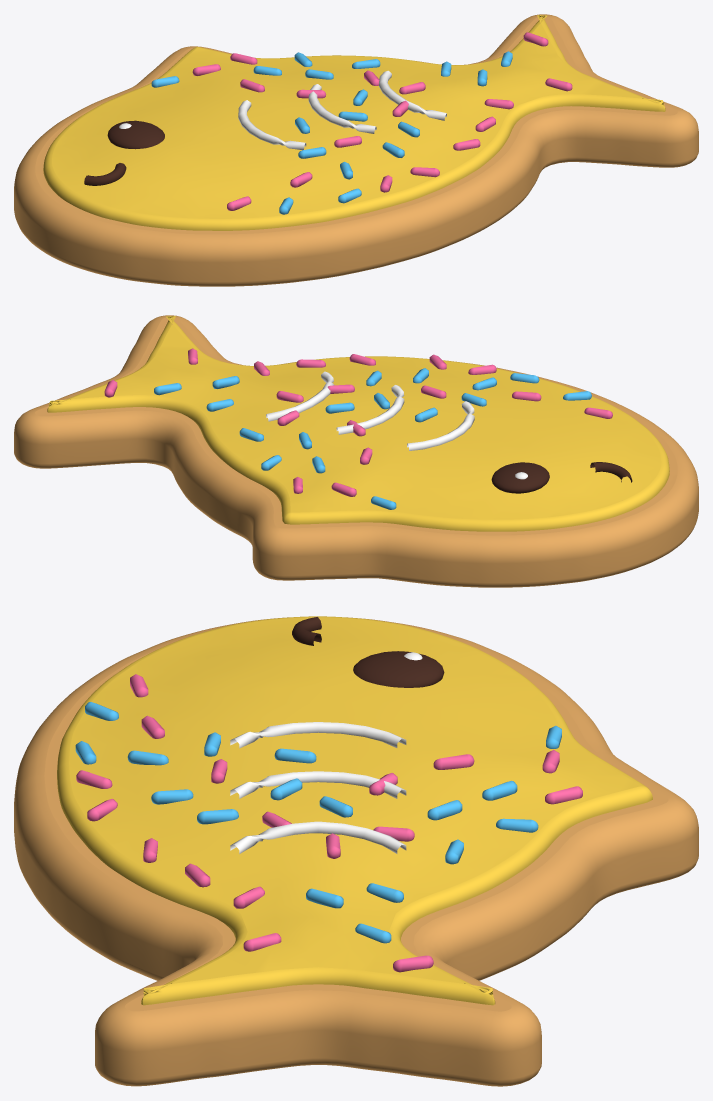
The model's file is FishCookie.obj.
3 renders of one model, top to bottom at view 1: azimuth 30°, elevation 25°; view 2: azimuth 150°, elevation 25°; view 3: azimuth 270°, elevation 25°, orthographic. The views are drawn at different scales.
Visible parts, largest first — view 1: Icing, Cookie, Sprinkles, Sprinkles2, Dots, Face; view 2: Icing, Cookie, Sprinkles2, Sprinkles, Dots, Face; view 3: Icing, Cookie, Sprinkles2, Sprinkles, Dots, Face.
Part boxes in pixels (left/top/right/bottom): Icing: left=43, top=15, right=665, bottom=230; Cookie: left=14, top=14, right=698, bottom=286; Sprinkles: left=192, top=32, right=572, bottom=210; Sprinkles2: left=151, top=51, right=512, bottom=214; Dots: left=238, top=70, right=446, bottom=150; Face: left=84, top=120, right=164, bottom=185; Icing: left=47, top=316, right=669, bottom=531; Cookie: left=14, top=315, right=698, bottom=587; Sprinkles2: left=154, top=368, right=591, bottom=509; Sprinkles: left=104, top=348, right=612, bottom=496; Dots: left=266, top=371, right=474, bottom=450; Face: left=491, top=462, right=632, bottom=493; Icing: left=57, top=616, right=652, bottom=1005; Cookie: left=14, top=617, right=698, bottom=1086; Sprinkles2: left=75, top=702, right=561, bottom=943; Sprinkles: left=76, top=674, right=582, bottom=972; Dots: left=230, top=722, right=406, bottom=853; Face: left=292, top=617, right=444, bottom=687.
Bounding box in the file's own units: 9.75 × 1.14 × 6.75.
